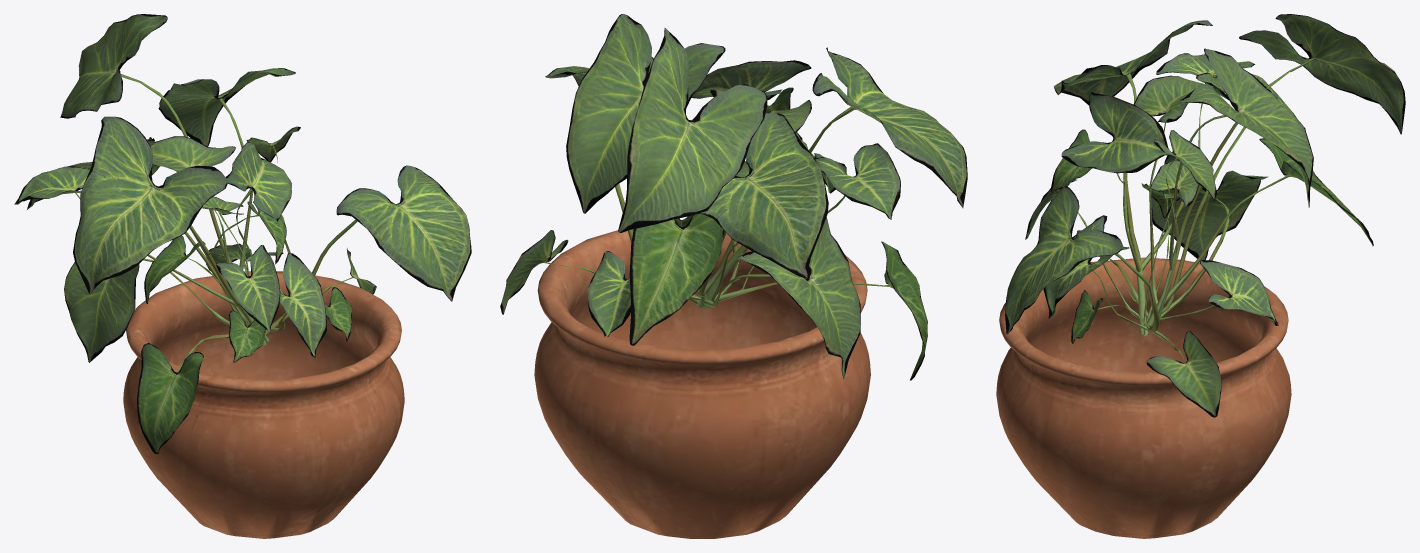
Rendered from potted_plant_02.glb.
The picture shows the model from 3 angles, left to right: view 1: azimuth 30°, elevation 25°; view 2: azimuth 150°, elevation 25°; view 3: azimuth 270°, elevation 25°; orthographic projection. The views are drawn at different scales.
Parts seen in each view (by area): view 1: potted_plant_02_leaves, potted_plant_02_pot; view 2: potted_plant_02_leaves, potted_plant_02_pot; view 3: potted_plant_02_pot, potted_plant_02_leaves.
Boxes of the visible parts, x1,y1,x2,y2 form: potted_plant_02_leaves: (14, 14, 471, 453); potted_plant_02_pot: (123, 271, 404, 538); potted_plant_02_leaves: (500, 14, 967, 380); potted_plant_02_pot: (534, 220, 870, 538); potted_plant_02_pot: (996, 257, 1291, 538); potted_plant_02_leaves: (1005, 14, 1405, 417).
Bounding box in the file's own units: 0.7009 × 0.8411 × 0.6574.
2 materials, 2 textured.
